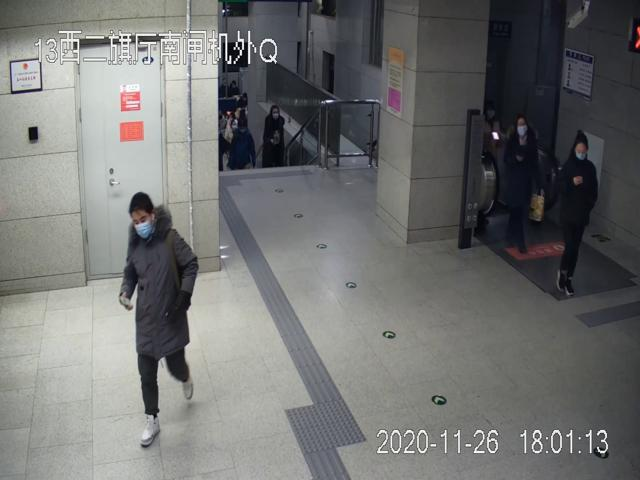person: (119, 189, 201, 445), (556, 130, 599, 298)
